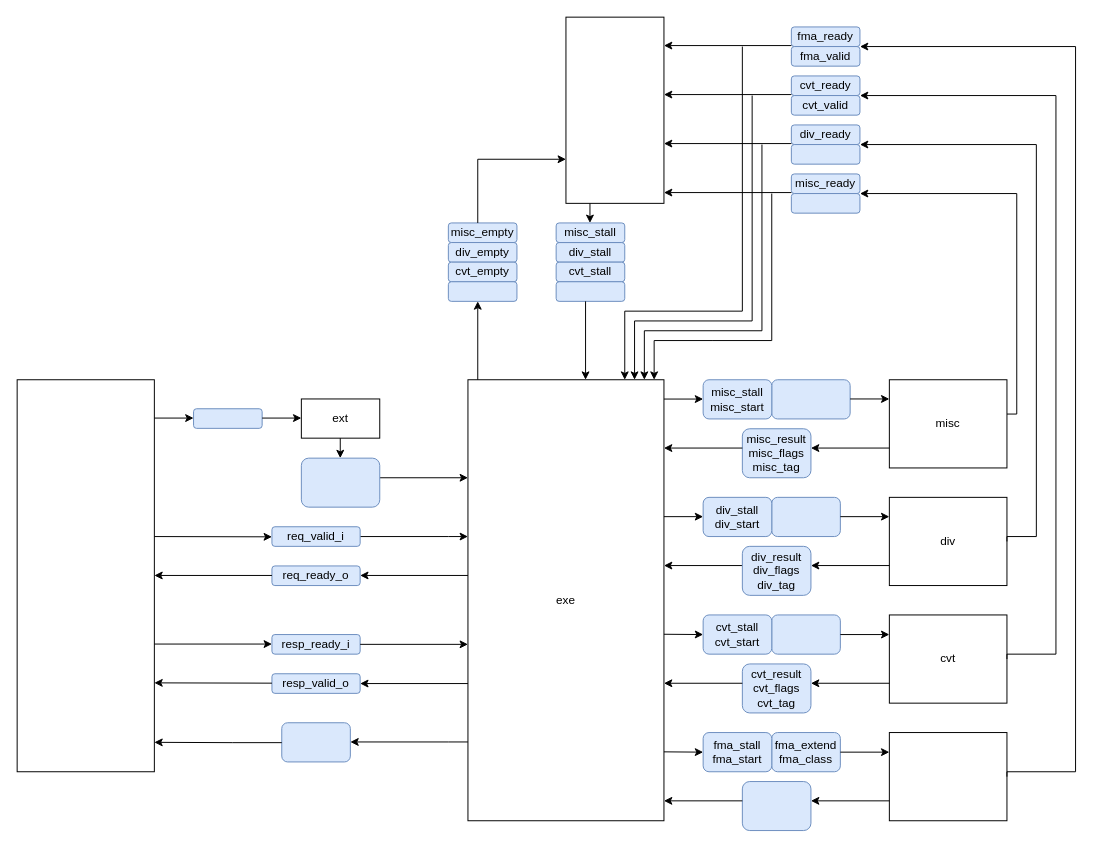
The diagram is 1101 pixels wide and 848 high, and some of its shapes have lost their labels. Here are the shapes that lost their labels. From the top down, the centre of each, then its label:
At point 614,109: "control".
At point 825,154: "div_valid".
At point 825,203: "misc_valid".
At point 482,291: "fma_empty".
At point 590,291: "fma_stall".
At point 227,418: "data".
At point 810,399: "misc_data misc_extend misc_class".
At point 340,482: "data extend class".
At point 805,516: "div_extend div_class".
At point 85,575: "CPU".
At point 805,634: "cvt_data cvt_extend cvt_class".
At point 315,742: "result flags tag".
At point 947,776: "fma".
At point 776,806: "fma_result fma_flags fma_tag".
